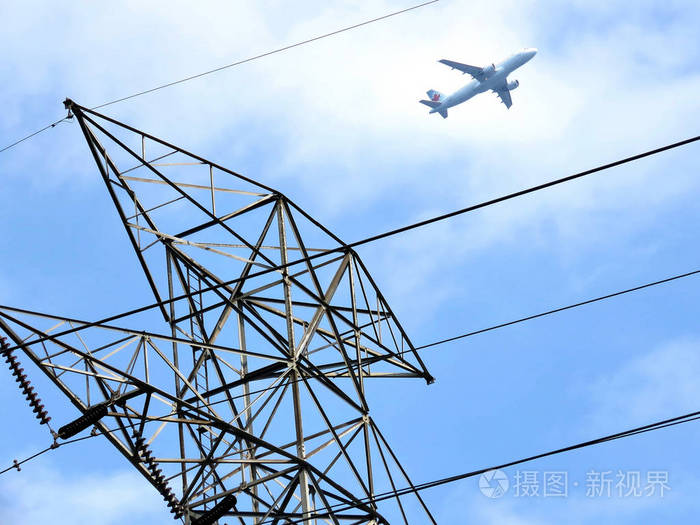insulator: (133, 428, 184, 519), (1, 341, 51, 428)
